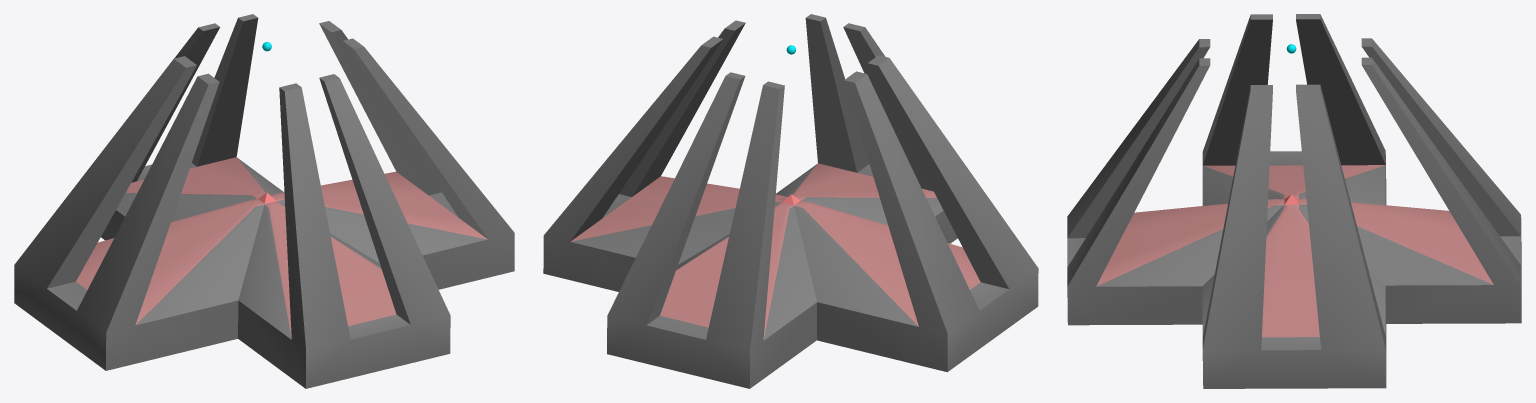
The model's file is Schieldgenerator.fbx.
3 renders of one model, left to right at view 1: azimuth 30°, elevation 25°; view 2: azimuth 150°, elevation 25°; view 3: azimuth 270°, elevation 25°, orthographic.
Parts seen in each view (by area): view 1: Schieldgenerator; view 2: Schieldgenerator; view 3: Schieldgenerator.
Part boxes in pixels (left/top/right/bottom): Schieldgenerator: left=14, top=14, right=514, bottom=388; Schieldgenerator: left=543, top=14, right=1038, bottom=388; Schieldgenerator: left=1067, top=14, right=1521, bottom=388.
Bounding box in the file's own units: 39.46 × 38.1 × 23.42.
